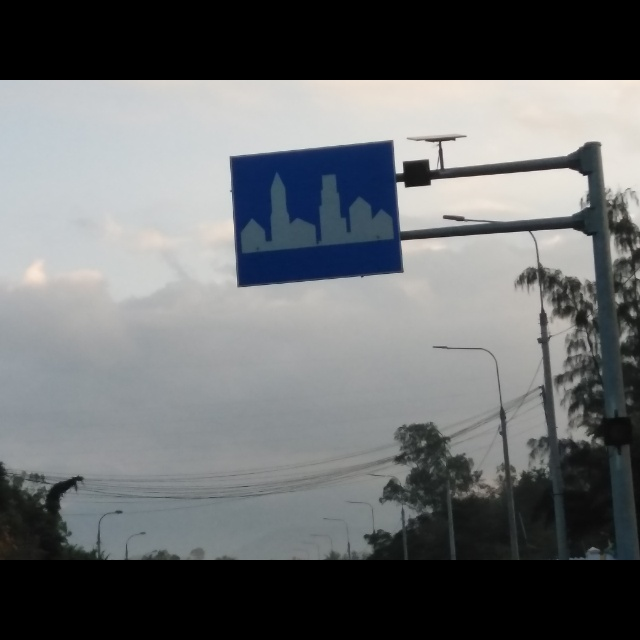Khu đông dân cư: (229, 134, 403, 285)
